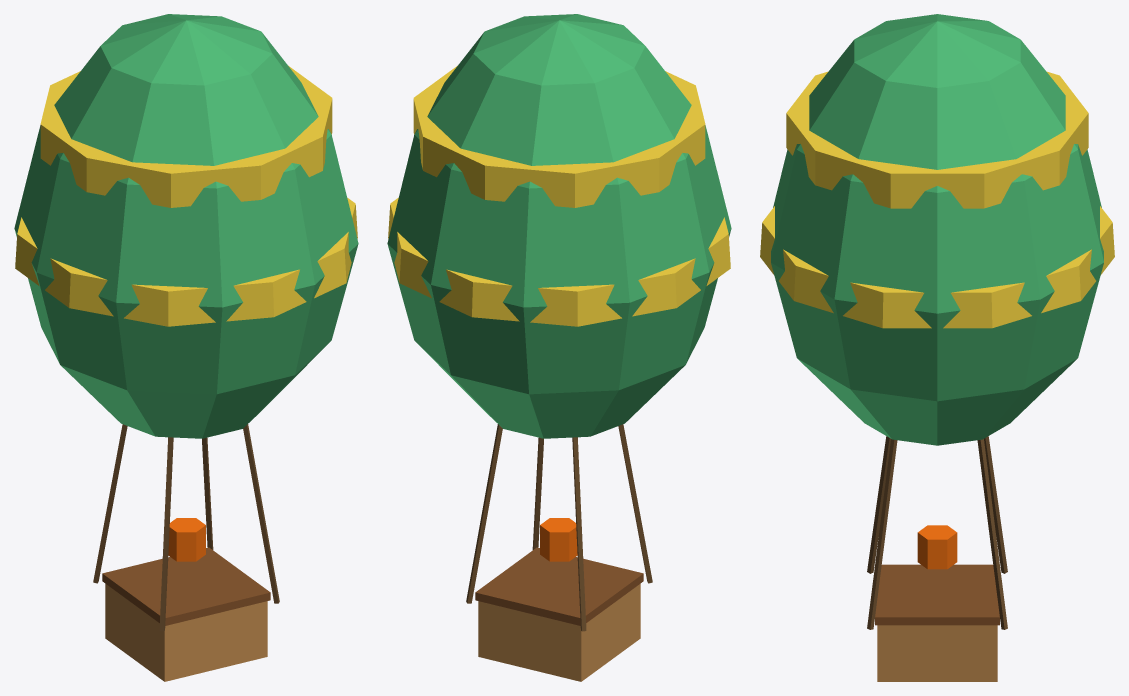
The model's file is sky_balloon_green.glb.
The picture shows the model from 3 angles, left to right: view 1: azimuth 30°, elevation 25°; view 2: azimuth 150°, elevation 25°; view 3: azimuth 270°, elevation 25°; orthographic projection.
Visible parts, largest first — view 1: balloon_green; view 2: balloon_green; view 3: balloon_green.
Part boxes in pixels (x1,y1,x2,y2): balloon_green: (14, 14, 358, 681); balloon_green: (387, 14, 731, 681); balloon_green: (760, 14, 1114, 681).
Bounding box in the file's own units: 3.2 × 6.4 × 3.24.
